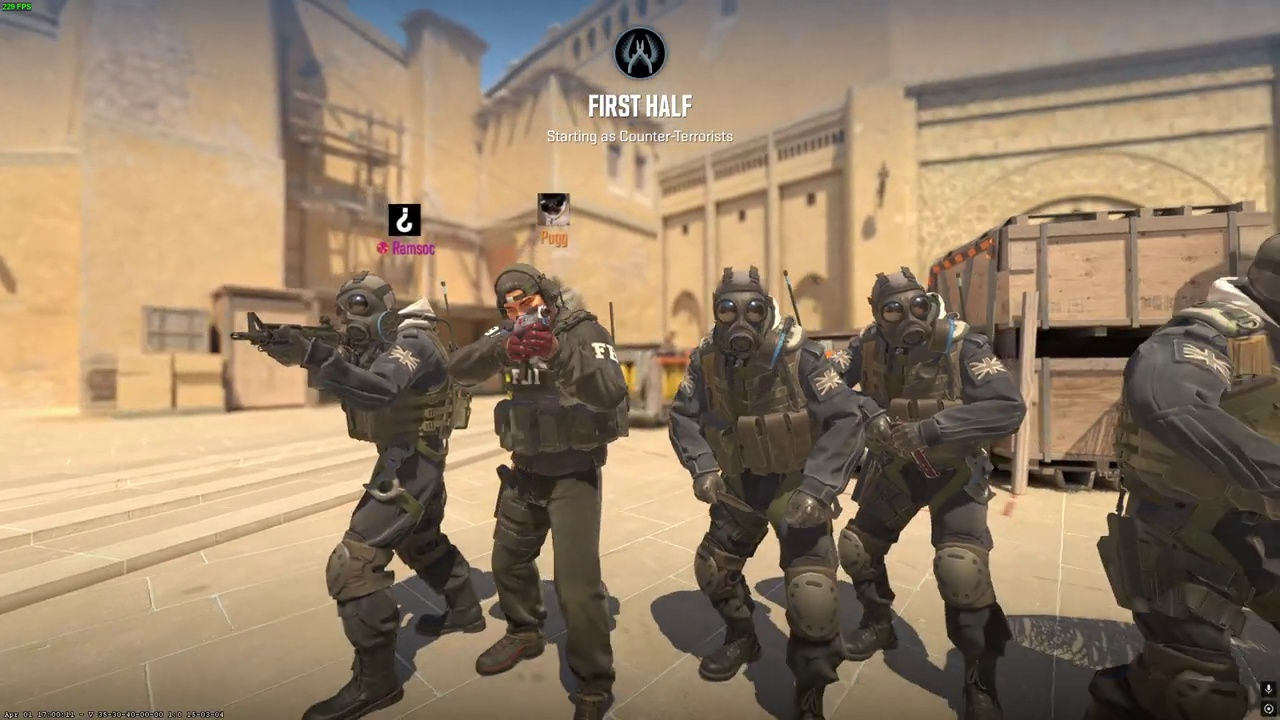CT: (1086, 232, 1280, 720), (827, 266, 1028, 719), (667, 265, 861, 717), (289, 270, 483, 720), (466, 264, 630, 719)
